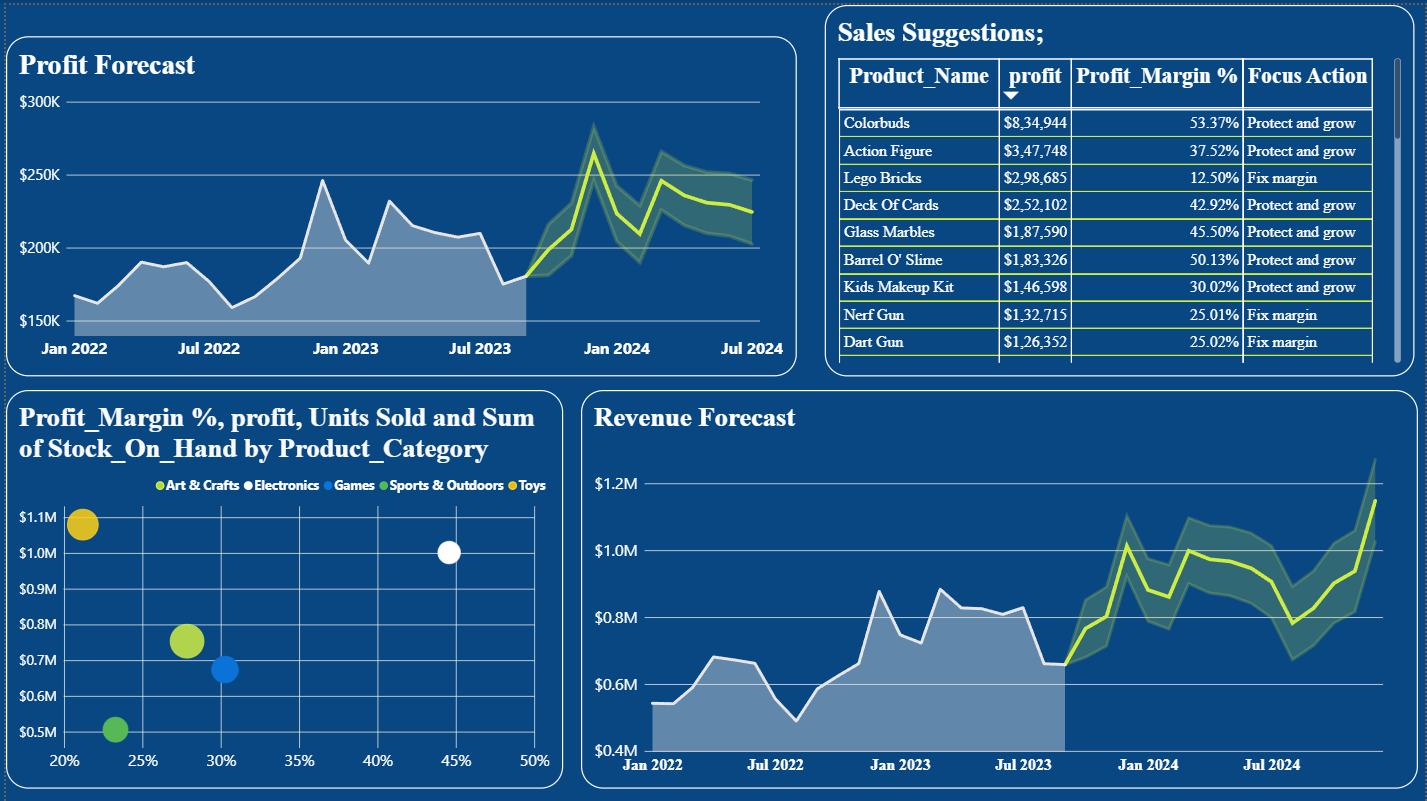

What the dashboard file says about the page in this screenshot:
{"tool":"powerbi","page":{"name":"Forecast","canvas":[1920,1080],"ordinal":2},"visuals":[{"type":"lineChart","title":"Revenue Forecast ","fields":{"Category":["sales.Month Start.Variation.Date Hierarchy.Year","sales.Month Start.Variation.Date Hierarchy.Quarter","sales.Month Start.Variation.Date Hierarchy.Month","sales.Month Start.Variation.Date Hierarchy.Day"],"Y":["inventory.Revenue"]},"box":[777.7,520.9,1131.7,539.3],"z":0},{"type":"lineChart","title":"Profit Forecast ","fields":{"Y":["inventory.profit"],"Category":["sales.Date.Variation.Date Hierarchy.Year","sales.Date.Variation.Date Hierarchy.Quarter","sales.Date.Variation.Date Hierarchy.Month","sales.Date.Variation.Date Hierarchy.Day"]},"box":[0,42.2,1069.4,460.4],"z":1000},{"type":"scatterChart","fields":{"X":["inventory.Profit_Margin %"],"Y":["inventory.profit"],"Size":["Sum(sales.Units)"],"Series":["products.Product_Category"]},"box":[0,520.9,753.9,539.3],"z":2000},{"type":"tableEx","title":"Sales Suggestions;","fields":{"Values":["products.Product_Name","inventory.profit","inventory.Profit_Margin %","inventory.Focus Action"]},"box":[1107.9,0,797.9,502.6],"z":3000}]}

Visuals, with their boxes in screenshot pixels (x1, y1, x2, y2), scaled from the page's 1920x1080 canvas onto the 1427x801 screenshot:
"Revenue Forecast " lineChart: <region>578, 386, 1419, 786</region>
"Profit Forecast " lineChart: <region>0, 31, 795, 373</region>
scatterChart - inventory.Profit_Margin % x inventory.profit: <region>0, 386, 560, 786</region>
"Sales Suggestions;" tableEx: <region>823, 0, 1416, 373</region>
